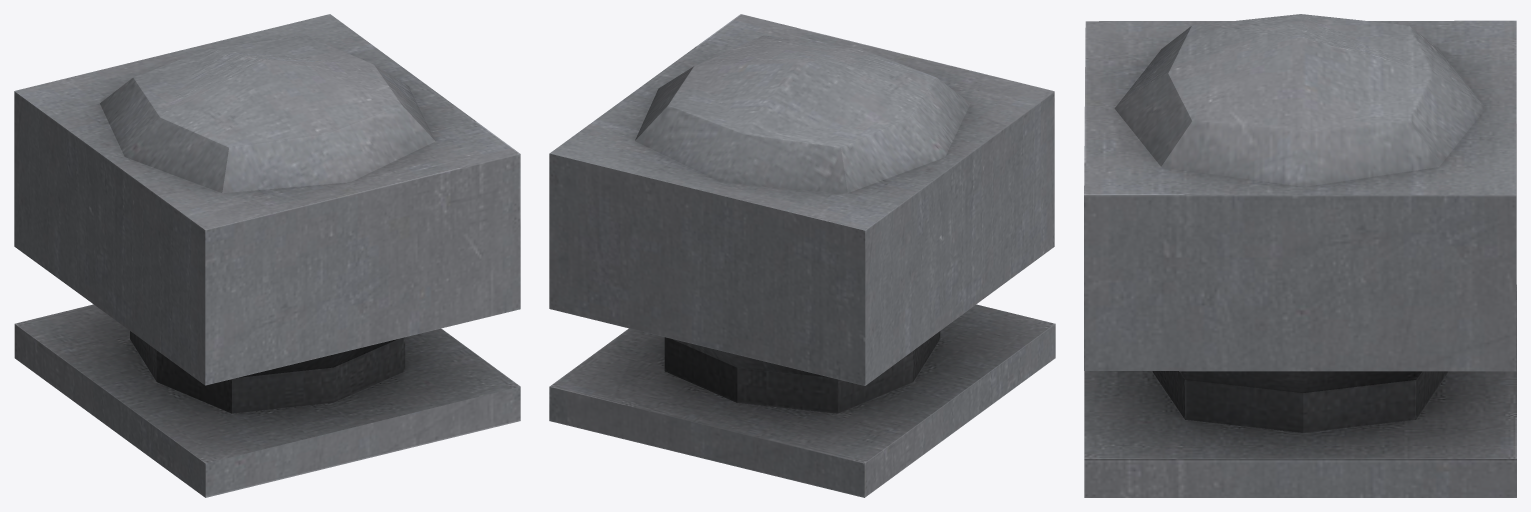
File: vent.fbx
The picture shows the model from 3 angles, left to right: view 1: azimuth 30°, elevation 25°; view 2: azimuth 150°, elevation 25°; view 3: azimuth 270°, elevation 25°; orthographic projection. The views are drawn at different scales.
Parts seen in each view (by area): view 1: ventMesh; view 2: ventMesh; view 3: ventMesh.
Part boxes in pixels (x1=…): ventMesh: x1=14, y1=14, x2=520, y2=497; ventMesh: x1=549, y1=14, x2=1055, y2=497; ventMesh: x1=1084, y1=14, x2=1516, y2=497.
Size of the model in its own units: 55.47 by 55.17 by 58.11.
